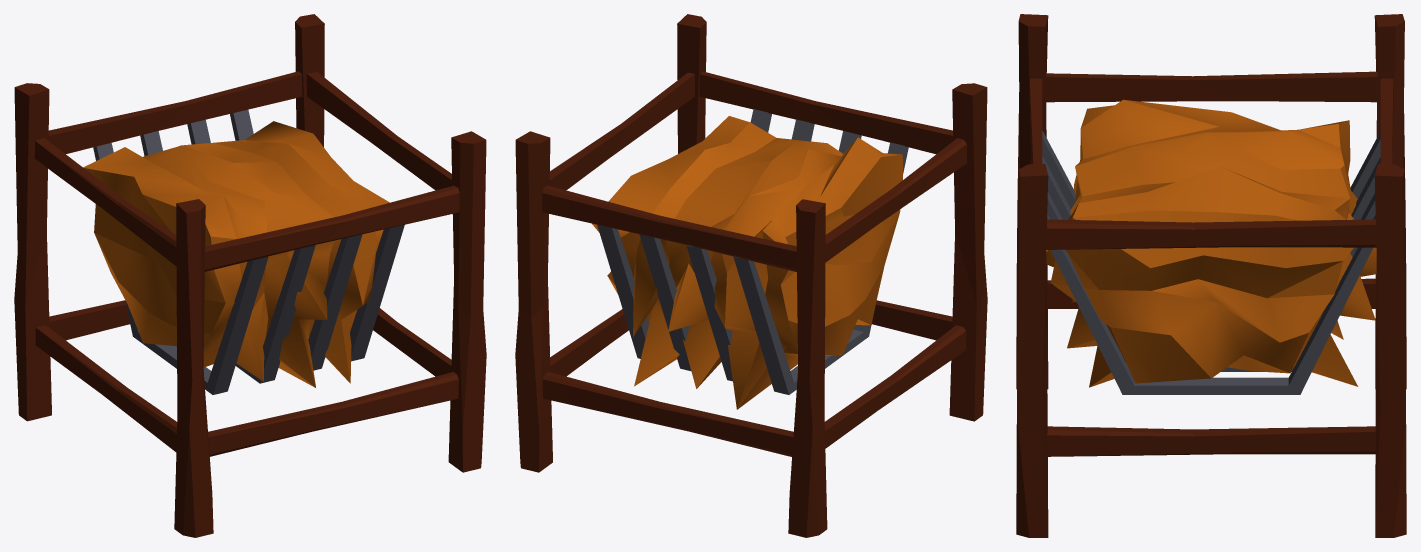
The model's file is Feeder_2_w_Hay.fbx.
3 renders of one model, left to right at view 1: azimuth 30°, elevation 25°; view 2: azimuth 150°, elevation 25°; view 3: azimuth 270°, elevation 25°, orthographic. The views are drawn at different scales.
Visible parts, largest first — view 1: Feeder_2_w_Hay; view 2: Feeder_2_w_Hay; view 3: Feeder_2_w_Hay.
Boxes of the visible parts, x1=… form: Feeder_2_w_Hay: x1=14, y1=14, x2=486, y2=537; Feeder_2_w_Hay: x1=515, y1=14, x2=987, y2=537; Feeder_2_w_Hay: x1=1016, y1=14, x2=1406, y2=537.
Size of the model in its own units: 37.58 by 38.94 by 38.09.
